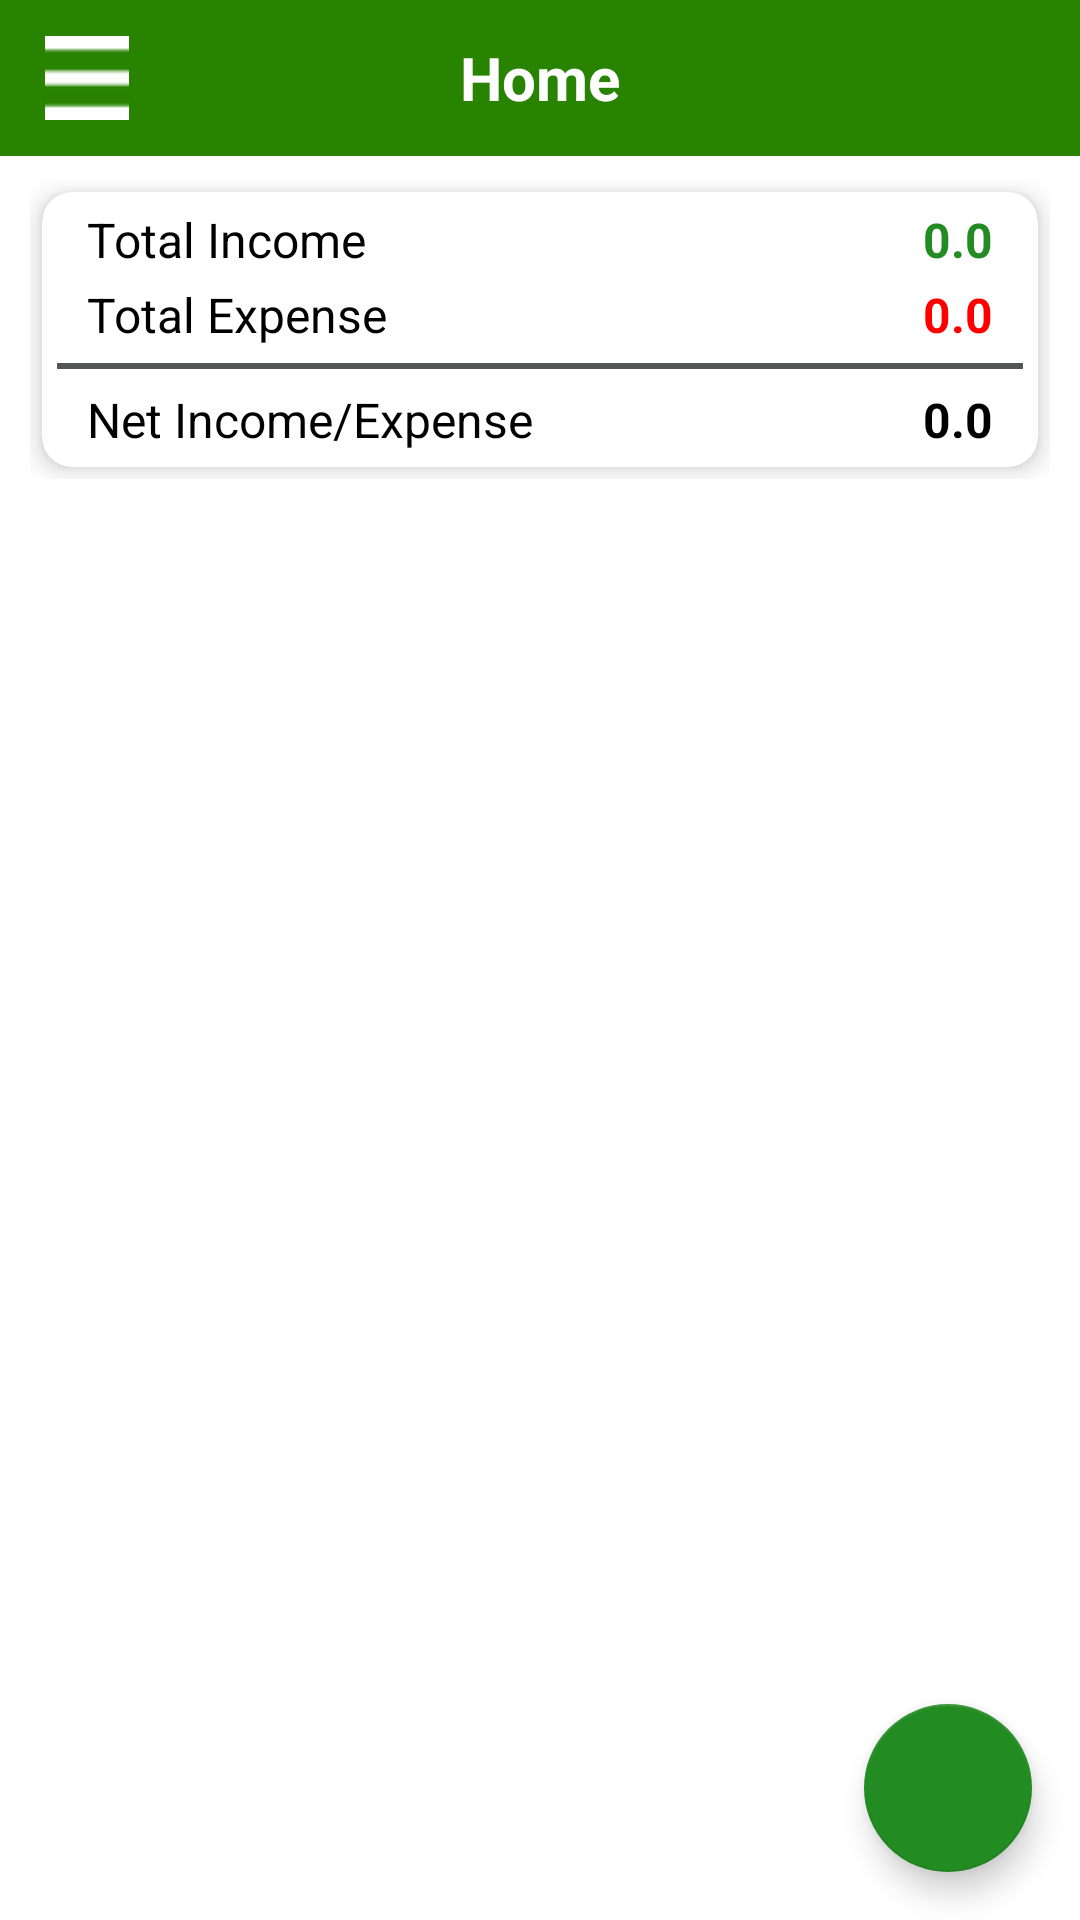

Point at icon controls on the screen. Image size 1080x1920, points as (x,y).
menu: (87,78)
